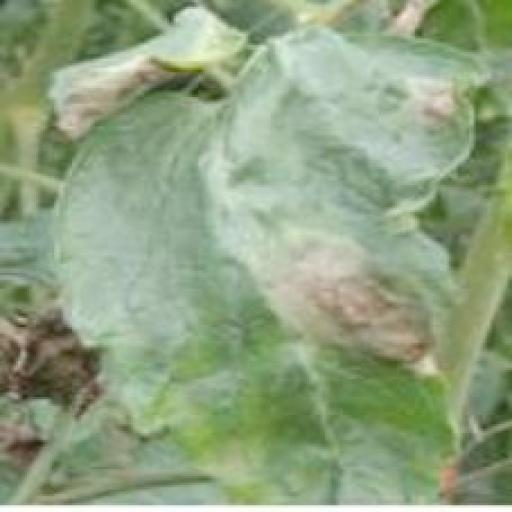Late Blight: (52, 22, 487, 504)
